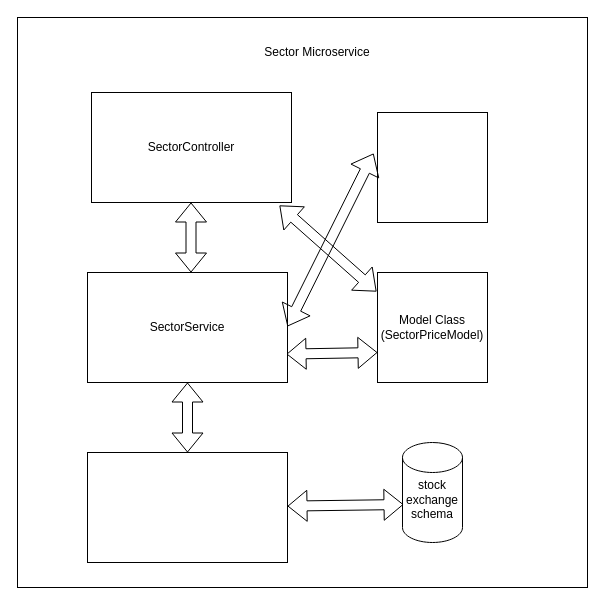
The diagram is 605 pixels wide and 605 high, and some of its shapes have lost their labels. The shapes that lost their labels are listed below. From the top down, each one's centre as x and y in pixels, then its label:
At (x=432, y=167): "Entity Class (Sector) (Company) (Stock)".
At (x=187, y=507): "SectorRepo CompanyRepo StockRepo".
